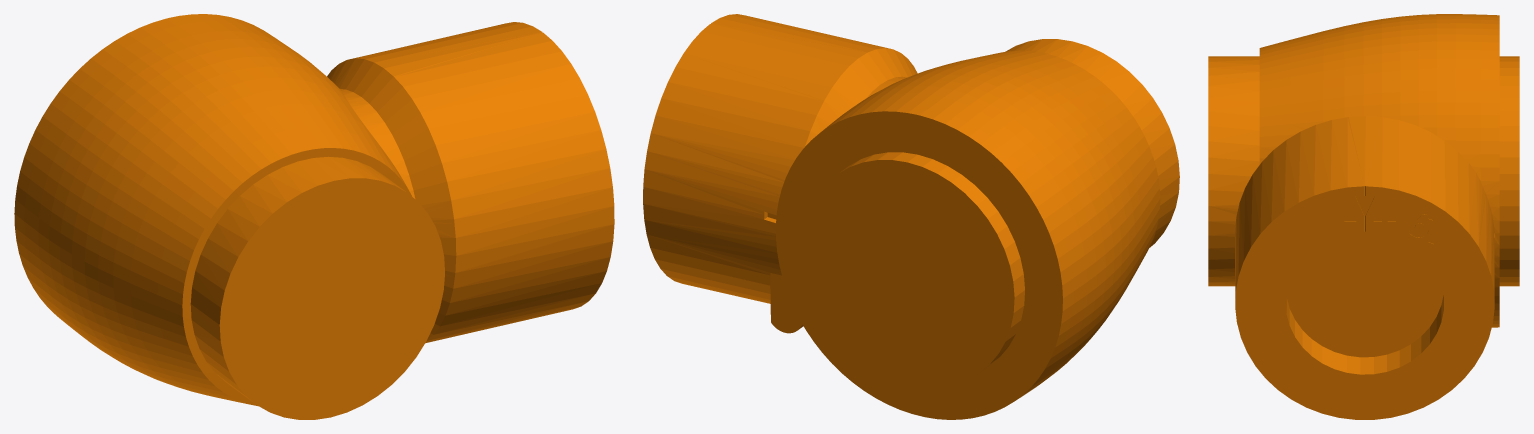
3 renders of one model, left to right at view 1: azimuth 30°, elevation 25°; view 2: azimuth 150°, elevation 25°; view 3: azimuth 270°, elevation 25°, orthographic. The views are drawn at different scales.
Visible parts, largest first — view 1: Link 5; view 2: Link 5; view 3: Link 5.
Boxes of the visible parts, x1=… form: Link 5: x1=14, y1=14, x2=614, y2=419; Link 5: x1=643, y1=14, x2=1179, y2=419; Link 5: x1=1208, y1=14, x2=1519, y2=419.
Bounding box in the file's own units: 11.66 × 7.94 × 7.85.
